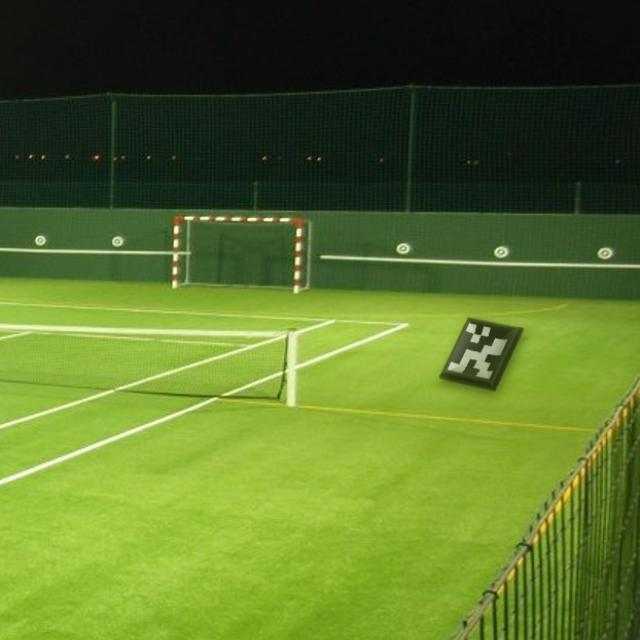marker: (429, 306, 532, 402)
